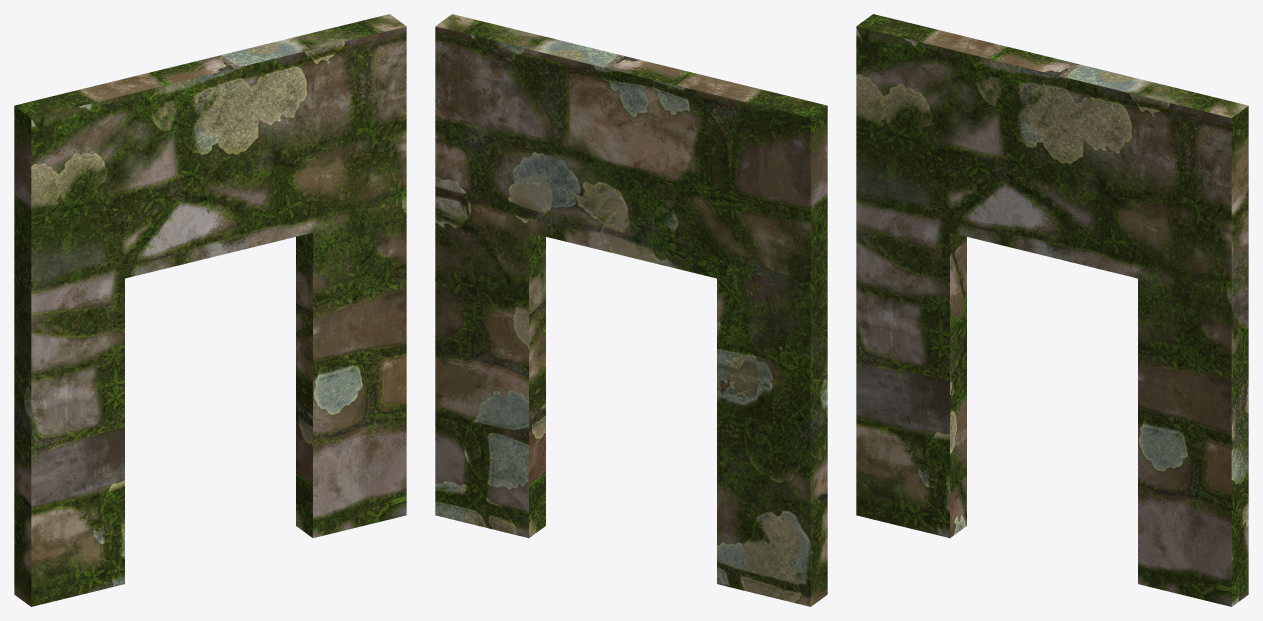
File: SM_WallDoorSmall.fbx
3 views of the same model, side by side, from view 1: azimuth 30°, elevation 25°; view 2: azimuth 150°, elevation 25°; view 3: azimuth 330°, elevation 25° (orthographic).
Visible parts, largest first — view 1: SM_WallDoorSmall_LOD0; view 2: SM_WallDoorSmall_LOD0; view 3: SM_WallDoorSmall_LOD0.
Boxes of the visible parts, x1,y1,x2,y2 form: SM_WallDoorSmall_LOD0: (14,14,406,606); SM_WallDoorSmall_LOD0: (435,14,827,606); SM_WallDoorSmall_LOD0: (856,14,1248,606).
Bounding box in the file's own units: 352 × 27.61 × 437.
Materials: 1 (1 with a texture image).
